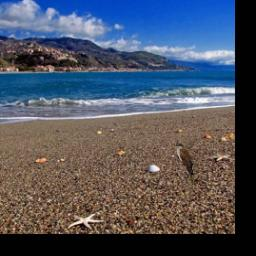Cuckoo: (176, 143, 194, 188)
